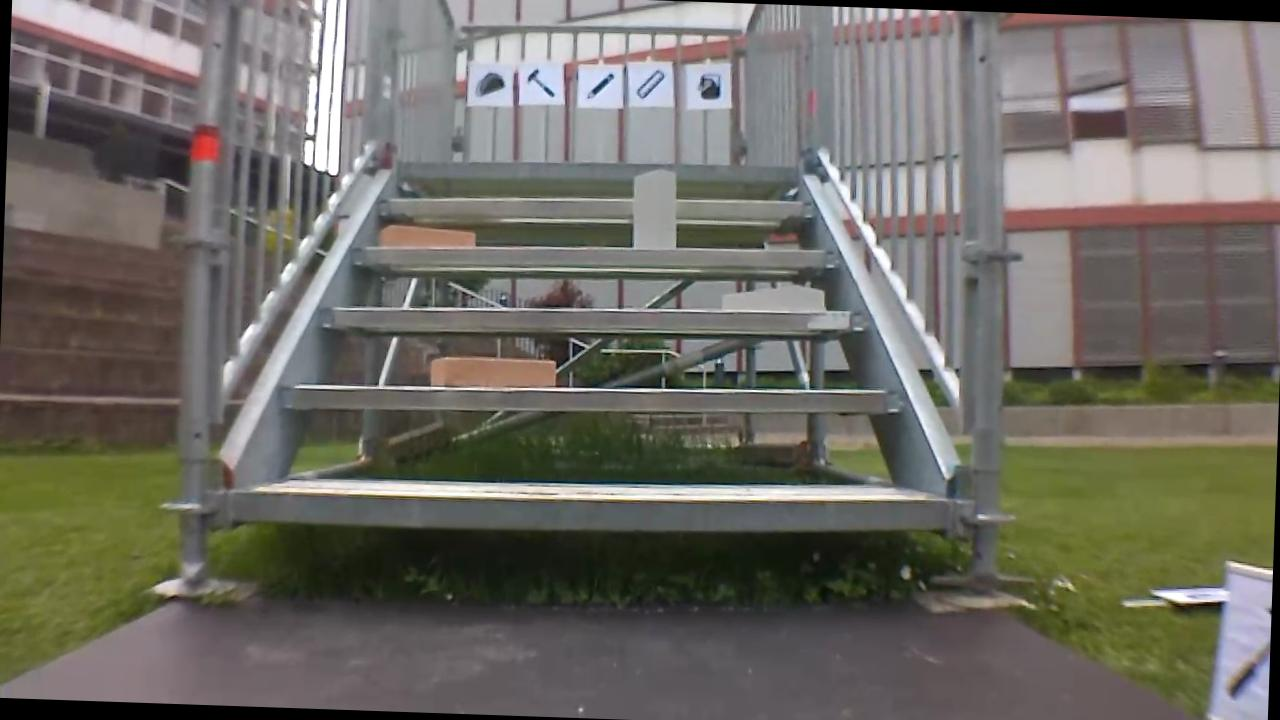brick: (430, 354, 554, 389), (632, 168, 677, 249), (721, 285, 824, 311), (381, 224, 476, 249)
bucket: (697, 66, 724, 102)
edge: (228, 474, 948, 544), (282, 369, 905, 426), (322, 291, 866, 343), (352, 234, 844, 277), (378, 186, 815, 227), (395, 153, 802, 189)
hammer: (521, 65, 561, 103)
pencil: (579, 66, 619, 105)
ruler: (632, 64, 668, 102)
steps: (224, 137, 969, 550)
taco: (471, 67, 508, 101)
